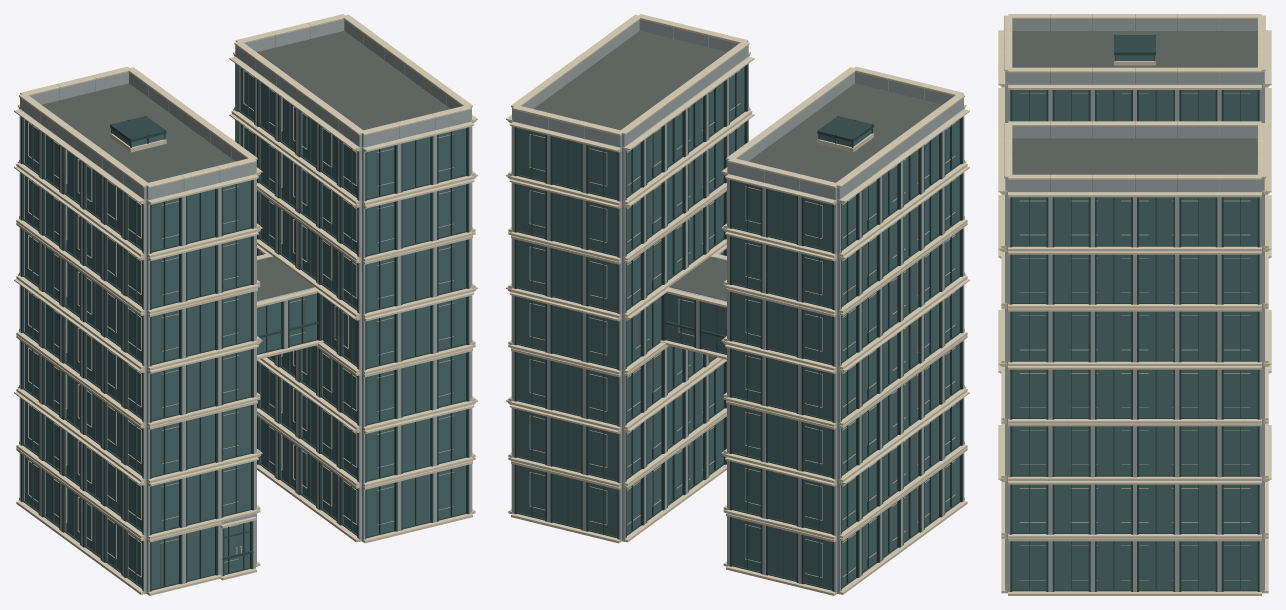
The model's file is skybridge-towers.glb.
3 renders of one model, left to right at view 1: azimuth 30°, elevation 25°; view 2: azimuth 150°, elevation 25°; view 3: azimuth 270°, elevation 25°, orthographic. The views are drawn at different scales.
Visible parts, largest first — view 1: Roof right.004, Foundation.039, Roof left.004, Roof bridge, right/north/0/5000/glass.004, right/north/2/5000/glass.002, right/north/0/8333/glass.004, right/north/2/8333/glass.002, right/north/4/8333/glass.001, right/north/4/5000/glass.001, right/north/0/1667/glass.003, right/north/2/1667/glass.002 (+45 smaller); view 2: Roof right.004, Foundation.039, Roof left.004, Roof bridge, right/south/0/5000/glass.001, right/south/2/5000/glass, right/south/0/8333/glass.001, right/south/2/8333/glass, right/south/4/8333/glass, right/south/4/5000/glass, right/south/0/1667/glass.001, right/south/2/1667/glass (+44 smaller); view 3: Roof right.004, Roof left.004, Foundation.039, right/east/0/833/glass, right/east/0/2500/glass, right/east/0/4167/glass, right/east/0/5833/glass, right/east/0/7500/glass, right/east/0/9167/glass, right/east/2/833/glass, right/east/2/2500/glass, right/east/2/4167/glass (+116 smaller).
Boxes of the visible parts, box(x1,y1,x2,y2) form: Roof right.004: box(257, 31, 450, 130); Foundation.039: box(28, 70, 454, 586); Roof left.004: box(42, 83, 235, 199); Roof bridge: box(257, 256, 314, 300); right/north/0/5000/glass.004: box(402, 474, 430, 527); right/north/2/5000/glass.002: box(402, 361, 430, 414); right/north/0/8333/glass.004: box(438, 465, 466, 518); right/north/2/8333/glass.002: box(438, 352, 466, 406); right/north/4/8333/glass.001: box(438, 240, 466, 293); right/north/4/5000/glass.001: box(402, 249, 430, 302); right/north/0/1667/glass.003: box(366, 483, 394, 536); right/north/2/1667/glass.002: box(366, 370, 394, 423); Roof right.004: box(533, 31, 726, 130); Foundation.039: box(529, 70, 955, 577); Roof left.004: box(748, 83, 941, 199); Roof bridge: box(669, 256, 726, 300); right/south/0/5000/glass.001: box(553, 474, 581, 527); right/south/2/5000/glass: box(553, 361, 581, 414); right/south/0/8333/glass.001: box(517, 465, 545, 518); right/south/2/8333/glass: box(517, 352, 545, 406); right/south/4/8333/glass: box(517, 240, 545, 293); right/south/4/5000/glass: box(553, 249, 581, 302); right/south/0/1667/glass.001: box(589, 483, 617, 536); right/south/2/1667/glass: box(589, 370, 617, 423); Roof right.004: box(1012, 138, 1257, 174); Roof left.004: box(1012, 31, 1257, 67); Foundation.039: box(1019, 93, 1250, 580); right/east/0/833/glass: box(1223, 541, 1257, 589); right/east/0/2500/glass: box(1181, 541, 1215, 589); right/east/0/4167/glass: box(1139, 541, 1173, 589); right/east/0/5833/glass: box(1096, 541, 1130, 589); right/east/0/7500/glass: box(1054, 541, 1088, 589); right/east/0/9167/glass: box(1012, 541, 1046, 589); right/east/2/833/glass: box(1223, 426, 1257, 474); right/east/2/2500/glass: box(1181, 426, 1215, 474); right/east/2/4167/glass: box(1139, 426, 1173, 474).
Size of the model in its own units: 18.92 by 21.87 by 12.92.
